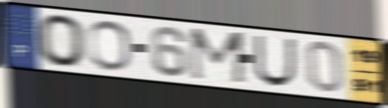0: (304, 39, 345, 95)
6: (149, 25, 189, 78)
M: (188, 26, 249, 87)
O: (35, 12, 88, 69), (87, 19, 134, 73)
U: (252, 34, 298, 89)
